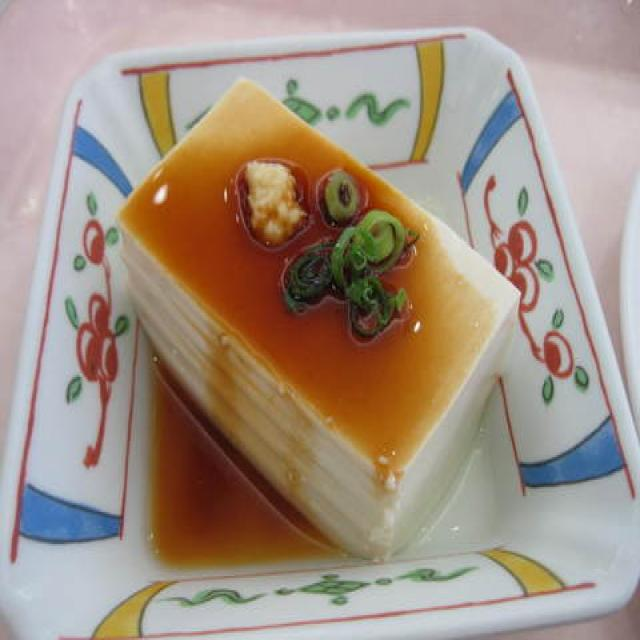豆腐料理: (0, 10, 640, 640)
